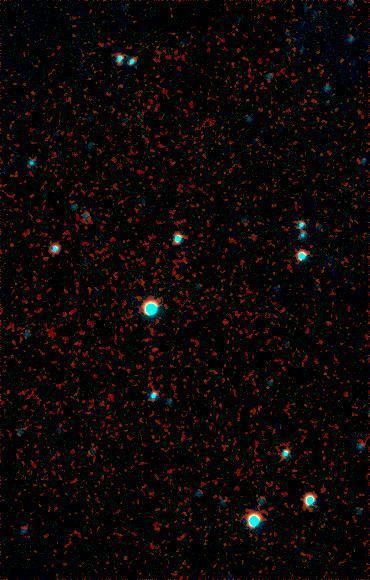star: (273, 454, 303, 484)
